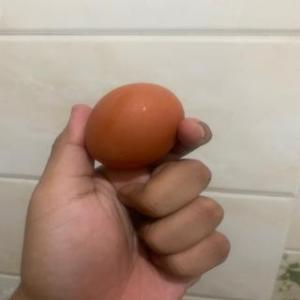egg: (82, 83, 186, 171)
